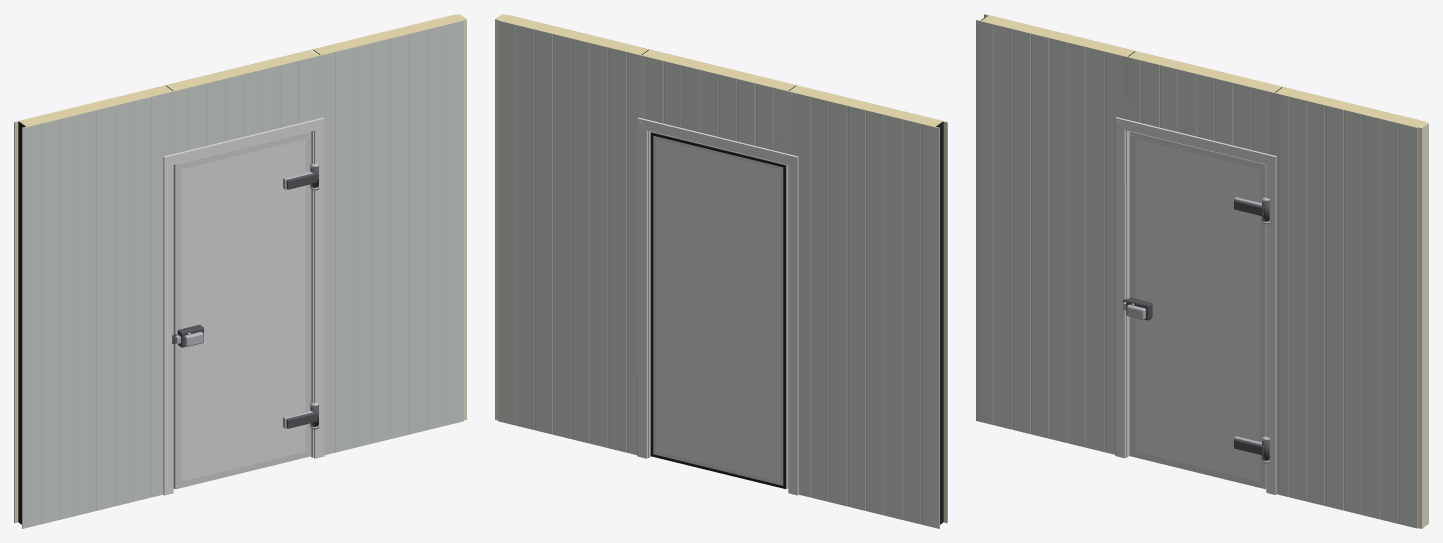
The model's file is hinged-3x7.glb.
The picture shows the model from 3 angles, left to right: view 1: azimuth 30°, elevation 25°; view 2: azimuth 150°, elevation 25°; view 3: azimuth 330°, elevation 25°; orthographic projection.
Parts seen in each view (by area): view 1: Wall_p0_Steel_top, Wall_p2_Steel_top, SkinF, Wall_p1_Steel_top, TrimF_L, TrimF_R, Wall_p0_PIR_core, AluF_L, AluF_R, TrimF_T, Wall_p0_Gasket, Wall_p1_PIR_core (+7 smaller); view 2: Wall_p0_Steel_bottom, Wall_p2_Steel_bottom, SkinB, Wall_p1_Steel_bottom, TrimB_L, TrimB_R, Wall_p0_PIR_core, TrimB_T, Wall_p0_Gasket, AluB_L, Wall_p1_PIR_core, Wall_p2_PIR_core (+8 smaller); view 3: Wall_p2_Steel_top, Wall_p0_Steel_top, SkinF, Wall_p1_Steel_top, Wall_p2_Tongue_tape, TrimF_L, TrimF_R, Wall_p2_PIR_core, AluF_L, TrimF_T, AluF_R, Wall_p0_PIR_core (+5 smaller).
Boxes of the visible parts, bbox=[...] form: Wall_p0_Steel_top: bbox=[22, 92, 169, 528]; Wall_p2_Steel_top: bbox=[317, 20, 463, 454]; SkinF: bbox=[181, 139, 305, 481]; Wall_p1_Steel_top: bbox=[169, 56, 316, 154]; TrimF_L: bbox=[163, 157, 173, 495]; TrimF_R: bbox=[314, 119, 324, 458]; Wall_p0_PIR_core: bbox=[14, 86, 171, 522]; AluF_L: bbox=[175, 165, 181, 488]; AluF_R: bbox=[305, 132, 311, 455]; TrimF_T: bbox=[163, 117, 324, 164]; Wall_p0_Gasket: bbox=[18, 121, 25, 524]; Wall_p1_PIR_core: bbox=[161, 50, 318, 92]; Wall_p0_Steel_bottom: bbox=[792, 92, 939, 528]; Wall_p2_Steel_bottom: bbox=[498, 20, 644, 454]; SkinB: bbox=[656, 139, 780, 481]; Wall_p1_Steel_bottom: bbox=[645, 56, 792, 154]; TrimB_L: bbox=[788, 157, 798, 495]; TrimB_R: bbox=[637, 119, 647, 458]; Wall_p0_PIR_core: bbox=[790, 86, 947, 522]; TrimB_T: bbox=[637, 117, 798, 164]; Wall_p0_Gasket: bbox=[936, 121, 943, 524]; AluB_L: bbox=[780, 165, 786, 488]; Wall_p1_PIR_core: bbox=[643, 50, 800, 92]; Wall_p2_PIR_core: bbox=[495, 14, 652, 56]; Wall_p2_Steel_top: bbox=[1270, 92, 1417, 528]; Wall_p0_Steel_top: bbox=[976, 20, 1123, 454]; SkinF: bbox=[1135, 139, 1259, 481]; Wall_p1_Steel_top: bbox=[1123, 56, 1270, 154]; Wall_p2_Tongue_tape: bbox=[1418, 122, 1428, 528]; TrimF_L: bbox=[1115, 118, 1125, 458]; TrimF_R: bbox=[1266, 156, 1276, 494]; Wall_p2_PIR_core: bbox=[1271, 86, 1427, 527]; AluF_L: bbox=[1129, 132, 1135, 455]; TrimF_T: bbox=[1116, 117, 1276, 164]; AluF_R: bbox=[1260, 165, 1265, 488]; Wall_p0_PIR_core: bbox=[976, 14, 1133, 56].
Bounding box in the file's own units: 3.02 × 2.6 × 0.196.
